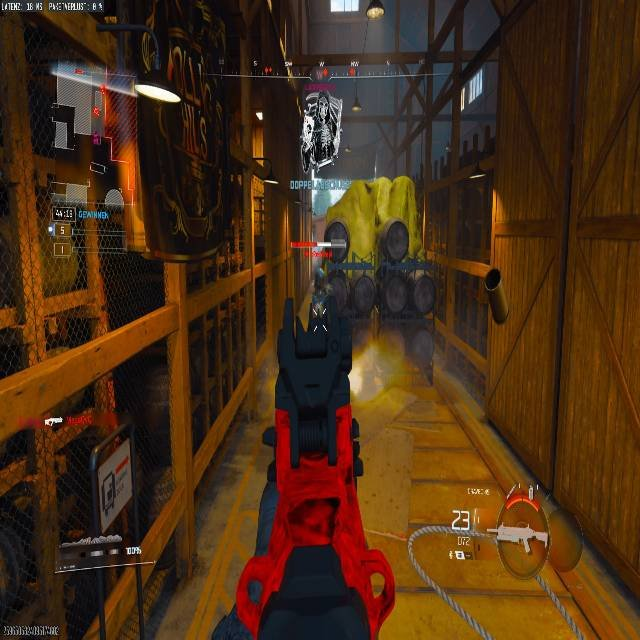player: (312, 266, 333, 318)
